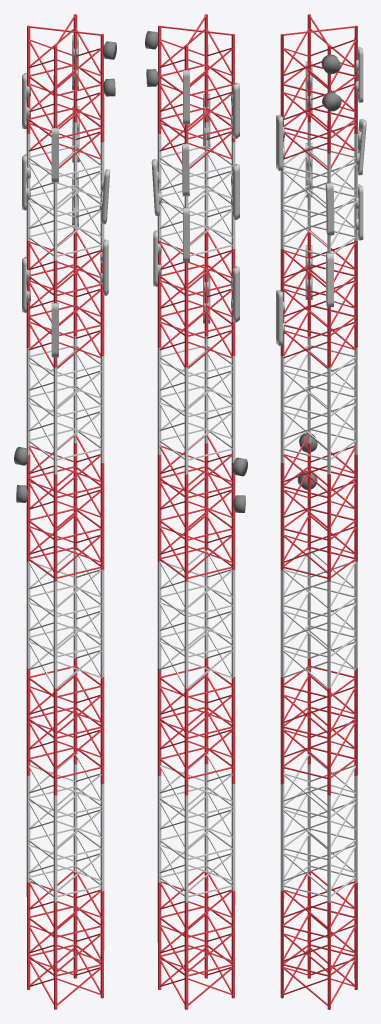
File: masto_120m_LOD00.gltf
3 renders of one model, left to right at view 1: azimuth 30°, elevation 25°; view 2: azimuth 210°, elevation 25°; view 3: azimuth 330°, elevation 25°, orthographic.
Visible parts, largest first — view 1: masto_120m; view 2: masto_120m; view 3: masto_120m.
Boxes of the visible parts, left/top/right/bottom form: masto_120m: left=14, top=14, right=116, bottom=1009; masto_120m: left=145, top=14, right=247, bottom=1009; masto_120m: left=276, top=14, right=366, bottom=1009.
Bounding box in the file's own units: 9.49 × 121 × 9.6.
